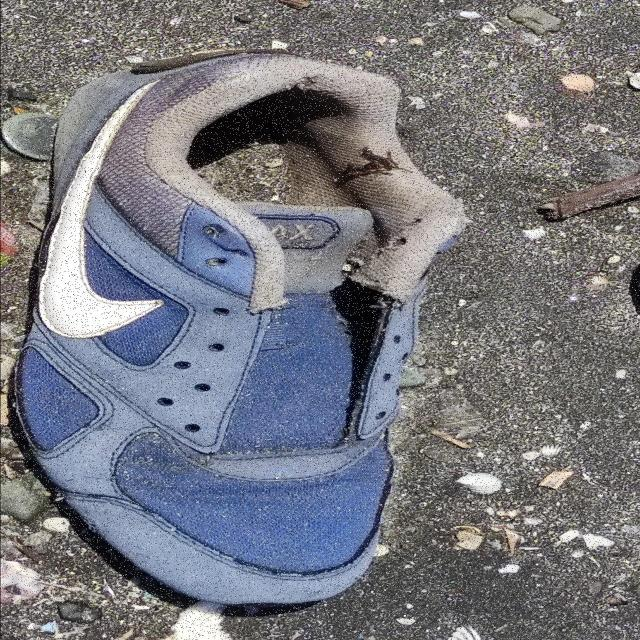rubber_waste: (12, 54, 477, 608)
